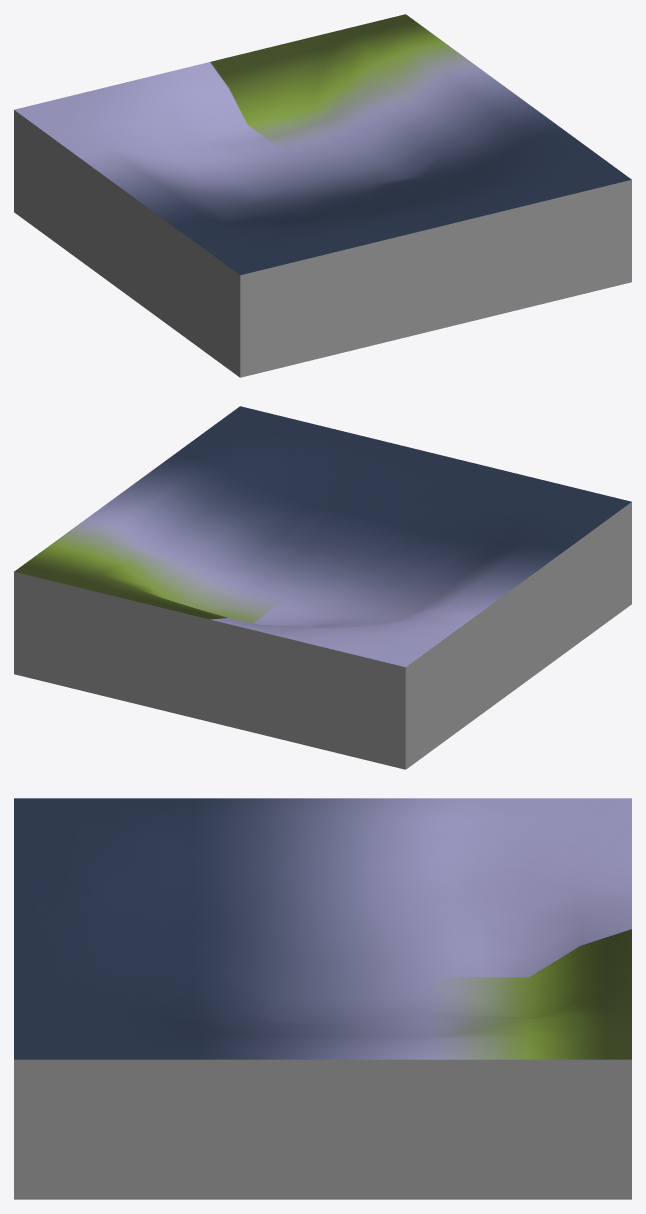
File: PathPond.fbx
3 renders of one model, top to bottom at view 1: azimuth 30°, elevation 25°; view 2: azimuth 150°, elevation 25°; view 3: azimuth 270°, elevation 25°, orthographic. The views are drawn at different scales.
Visible parts, largest first — view 1: Pond; view 2: Pond; view 3: Pond.
Boxes of the visible parts, x1=… form: Pond: x1=14, y1=14, x2=631, y2=377; Pond: x1=14, y1=406, x2=631, y2=769; Pond: x1=14, y1=798, x2=631, y2=1199.
Size of the model in its own units: 1200 by 300 by 1200.
